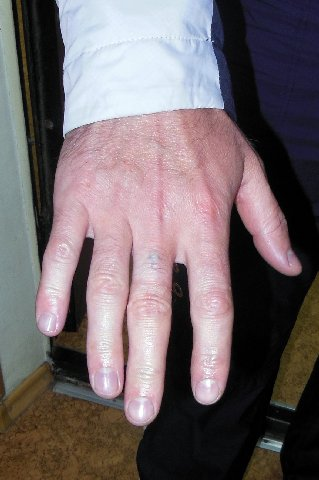tatu9_krest: (142, 244, 167, 276)
